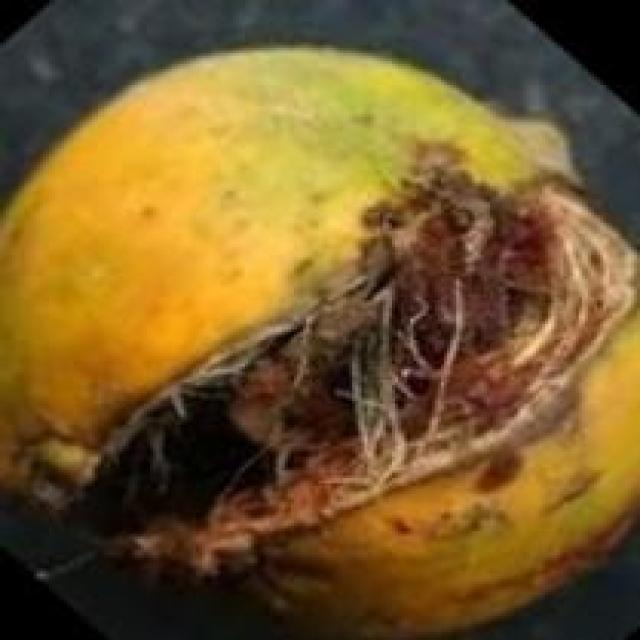damaged: (0, 50, 637, 637)
